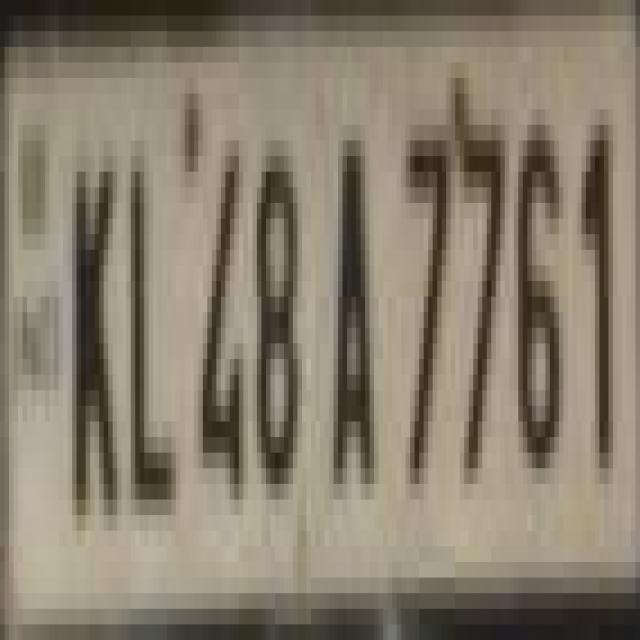license_plate: (18, 0, 640, 624)
